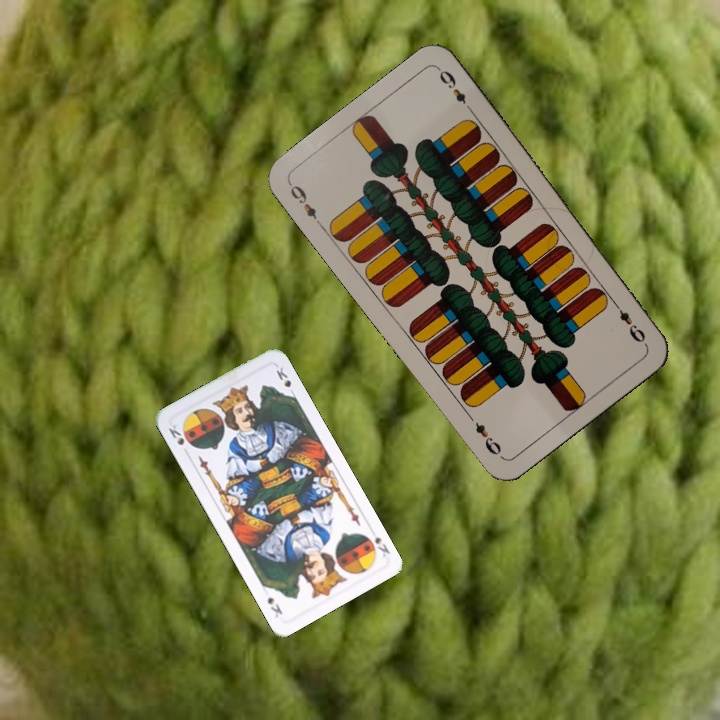E9: (608, 297, 649, 348), (285, 179, 326, 230)
SK: (164, 421, 194, 449), (371, 533, 392, 559)
